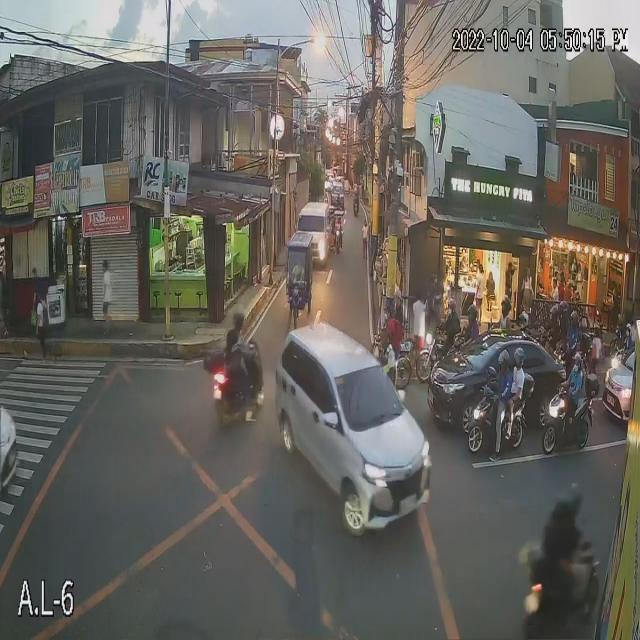helmet: (548, 499, 575, 524), (565, 480, 588, 508), (465, 300, 484, 329), (495, 350, 512, 375), (549, 305, 568, 325), (499, 295, 514, 319), (514, 345, 530, 367), (232, 309, 245, 334), (517, 309, 529, 331), (559, 299, 572, 318), (570, 353, 584, 370), (445, 300, 460, 314), (571, 310, 579, 329), (622, 324, 633, 336)
motorcycle: (518, 537, 601, 640), (464, 383, 533, 459), (206, 337, 262, 426), (537, 385, 600, 455), (415, 333, 456, 382), (353, 196, 360, 217)
rider: (537, 498, 577, 568), (222, 308, 249, 387), (492, 342, 515, 408), (569, 479, 589, 554), (566, 345, 589, 407), (513, 344, 533, 395), (492, 297, 516, 336), (442, 299, 462, 340), (462, 307, 482, 346), (545, 299, 559, 348), (558, 297, 573, 336), (570, 308, 584, 341), (519, 307, 532, 335), (622, 322, 633, 351)
